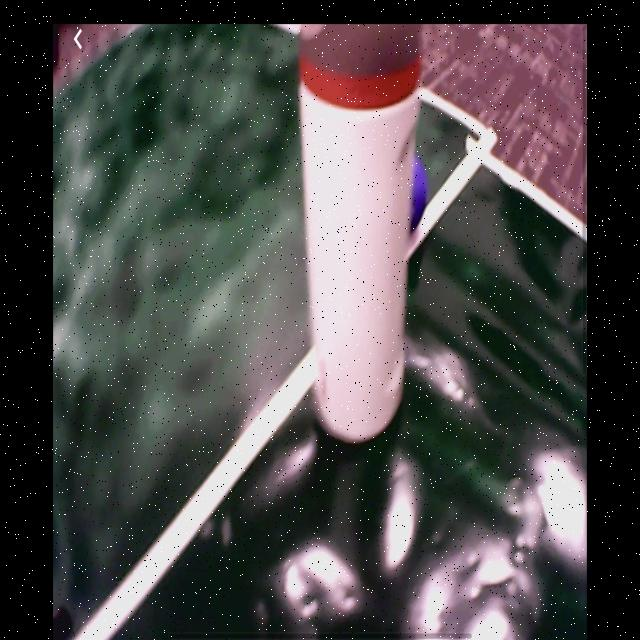ball: (410, 158, 429, 234)
